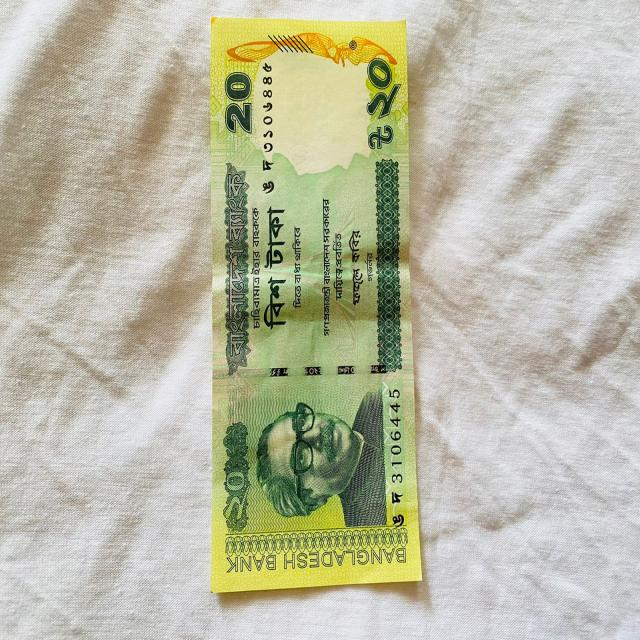Taka: (210, 8, 424, 598)
